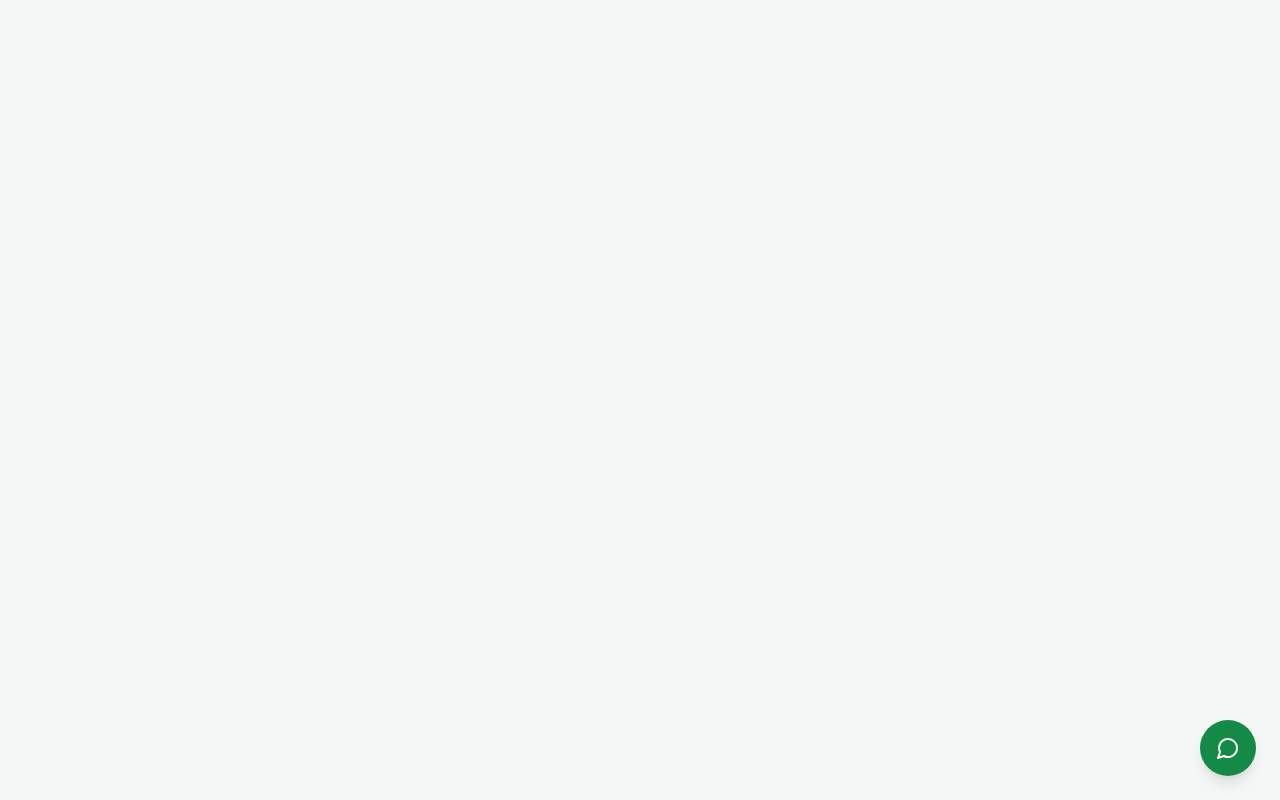
Scenario: Recipe chat › No keeps chatting and hides the offer
Click the button named "Open recipe chat".
click(1228, 748)  # box 1200,720 -> 1256,776
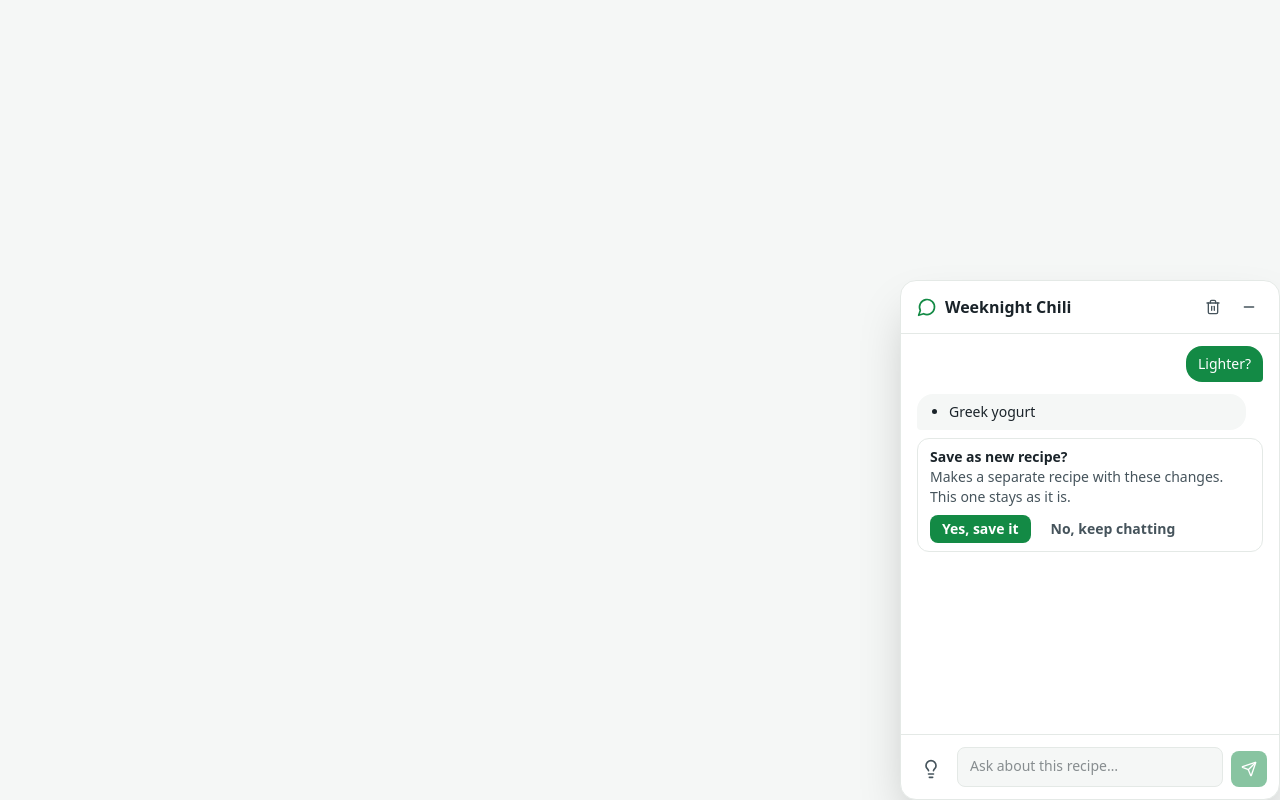
Click the button "No, keep chatting".
click(1113, 529)  # box 1038,515 -> 1187,543
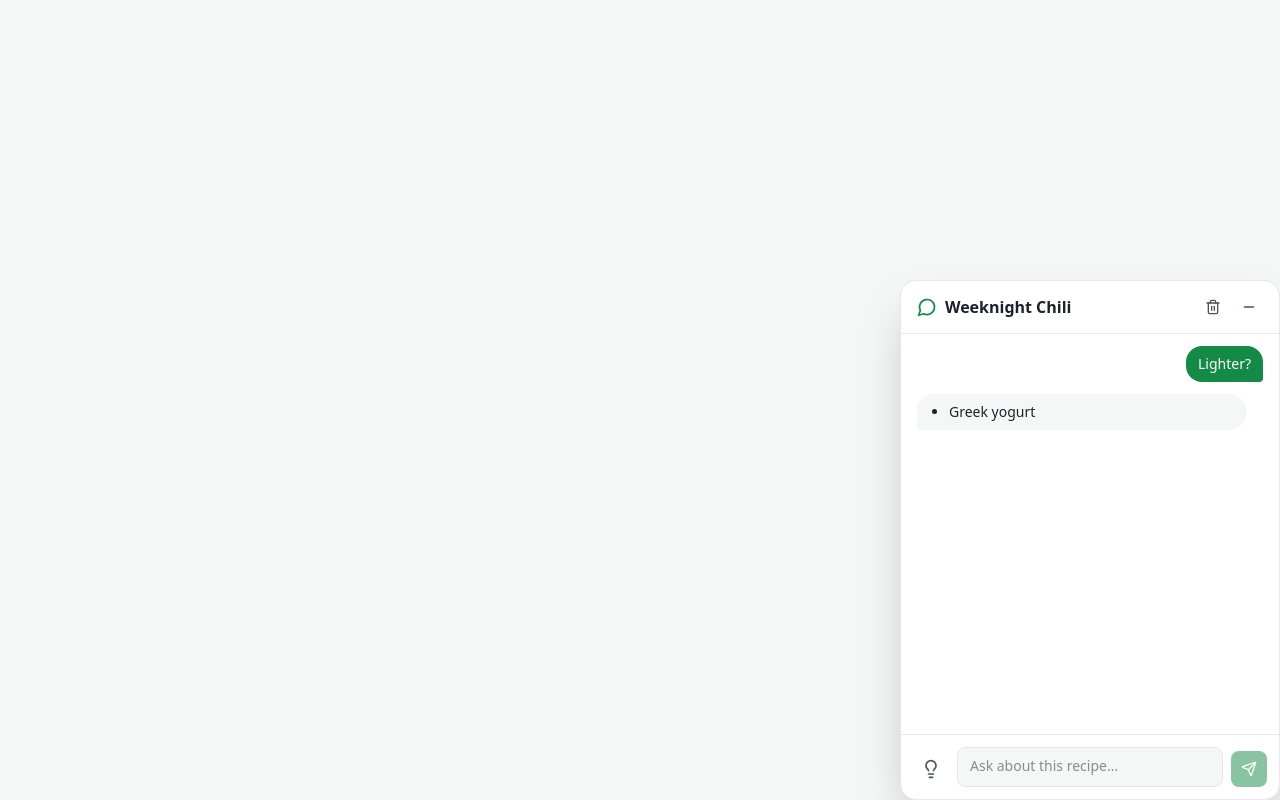
expect the text "Save as new recipe?" is gone: met
